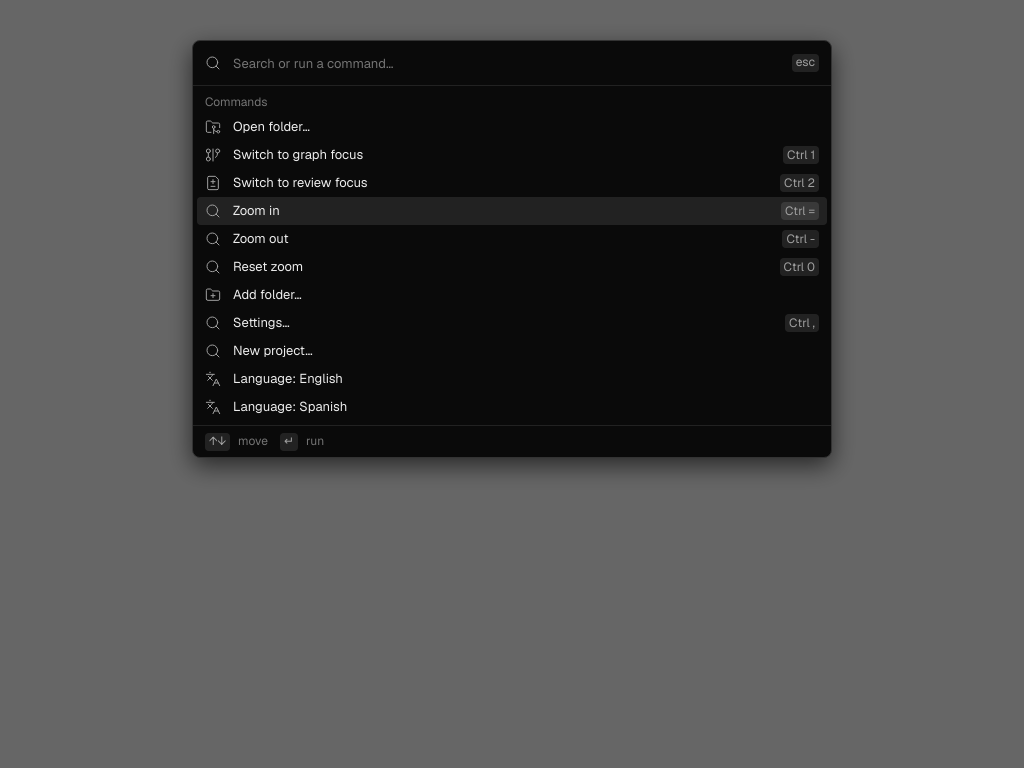
Test: PaletteOverlay › points the active descendant at the first visible row after typing
In the dropdown with test id "palette-input": (506, 63) [233,49,780,77], type "rev"
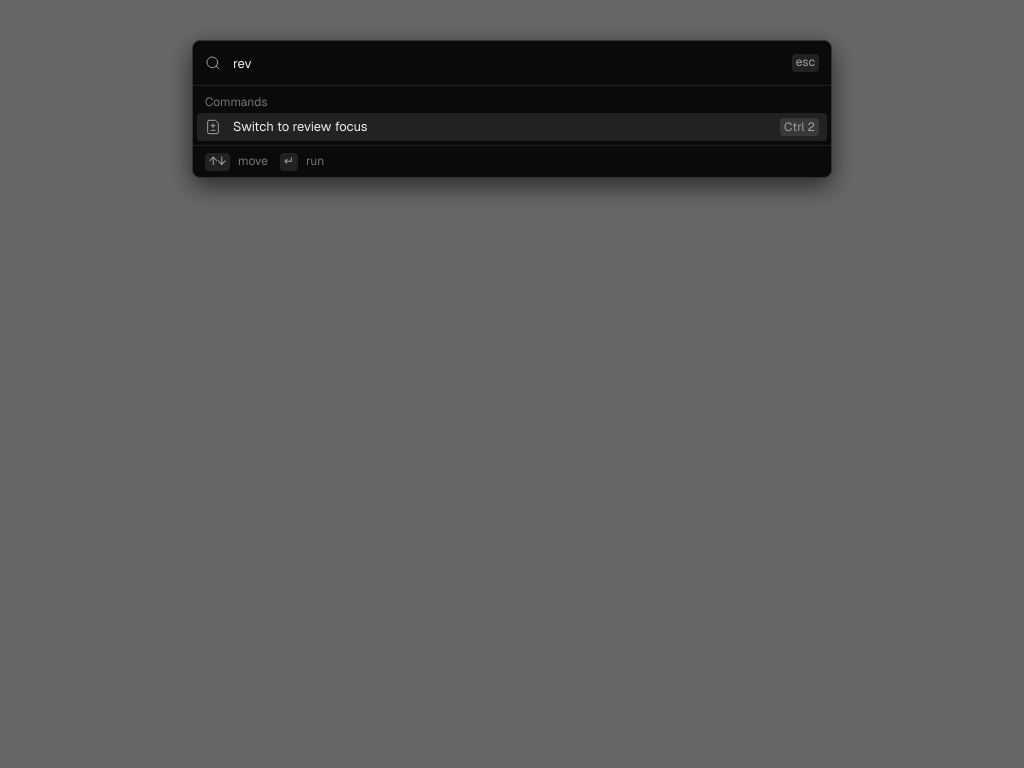
Result: the number of options with test id "palette-row" is 1 at [197,113,827,141]
